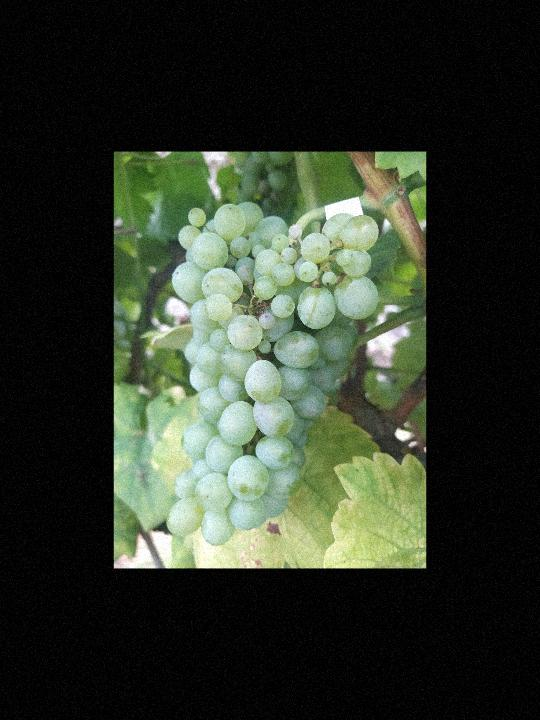grape: (163, 201, 381, 548)
